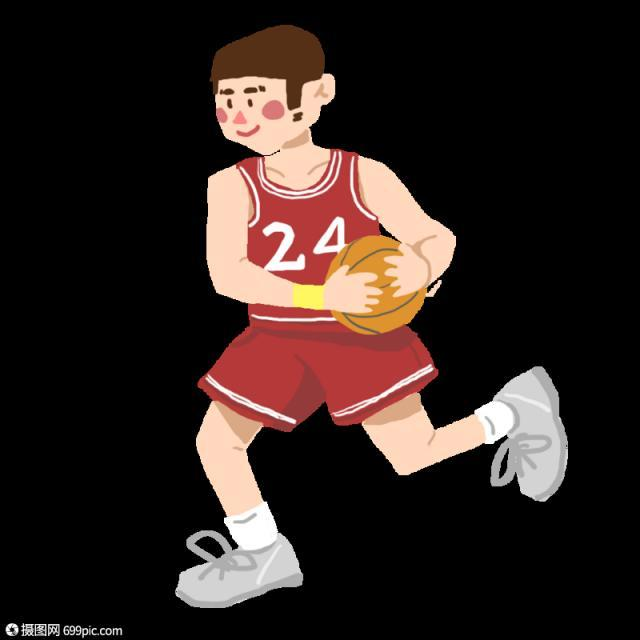rim: (320, 236, 434, 334)
